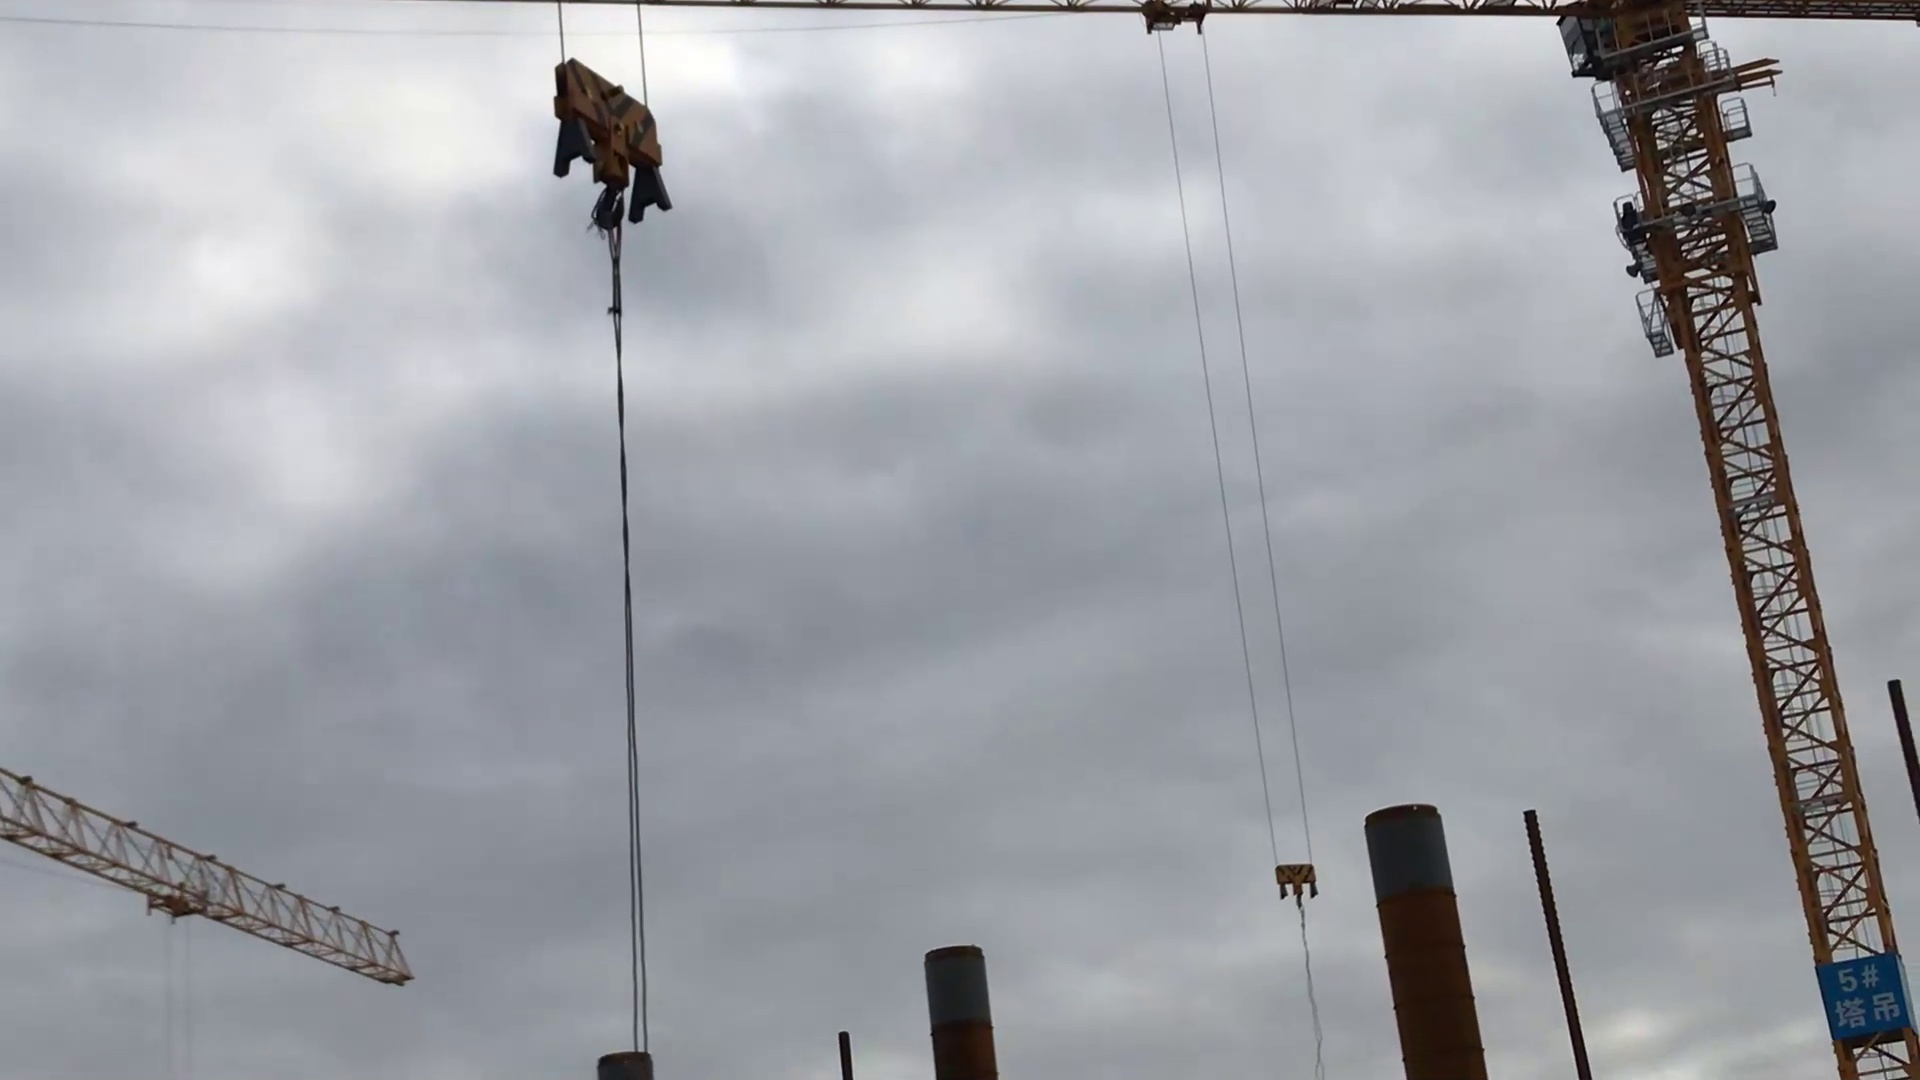hook: (546, 55, 678, 237)
